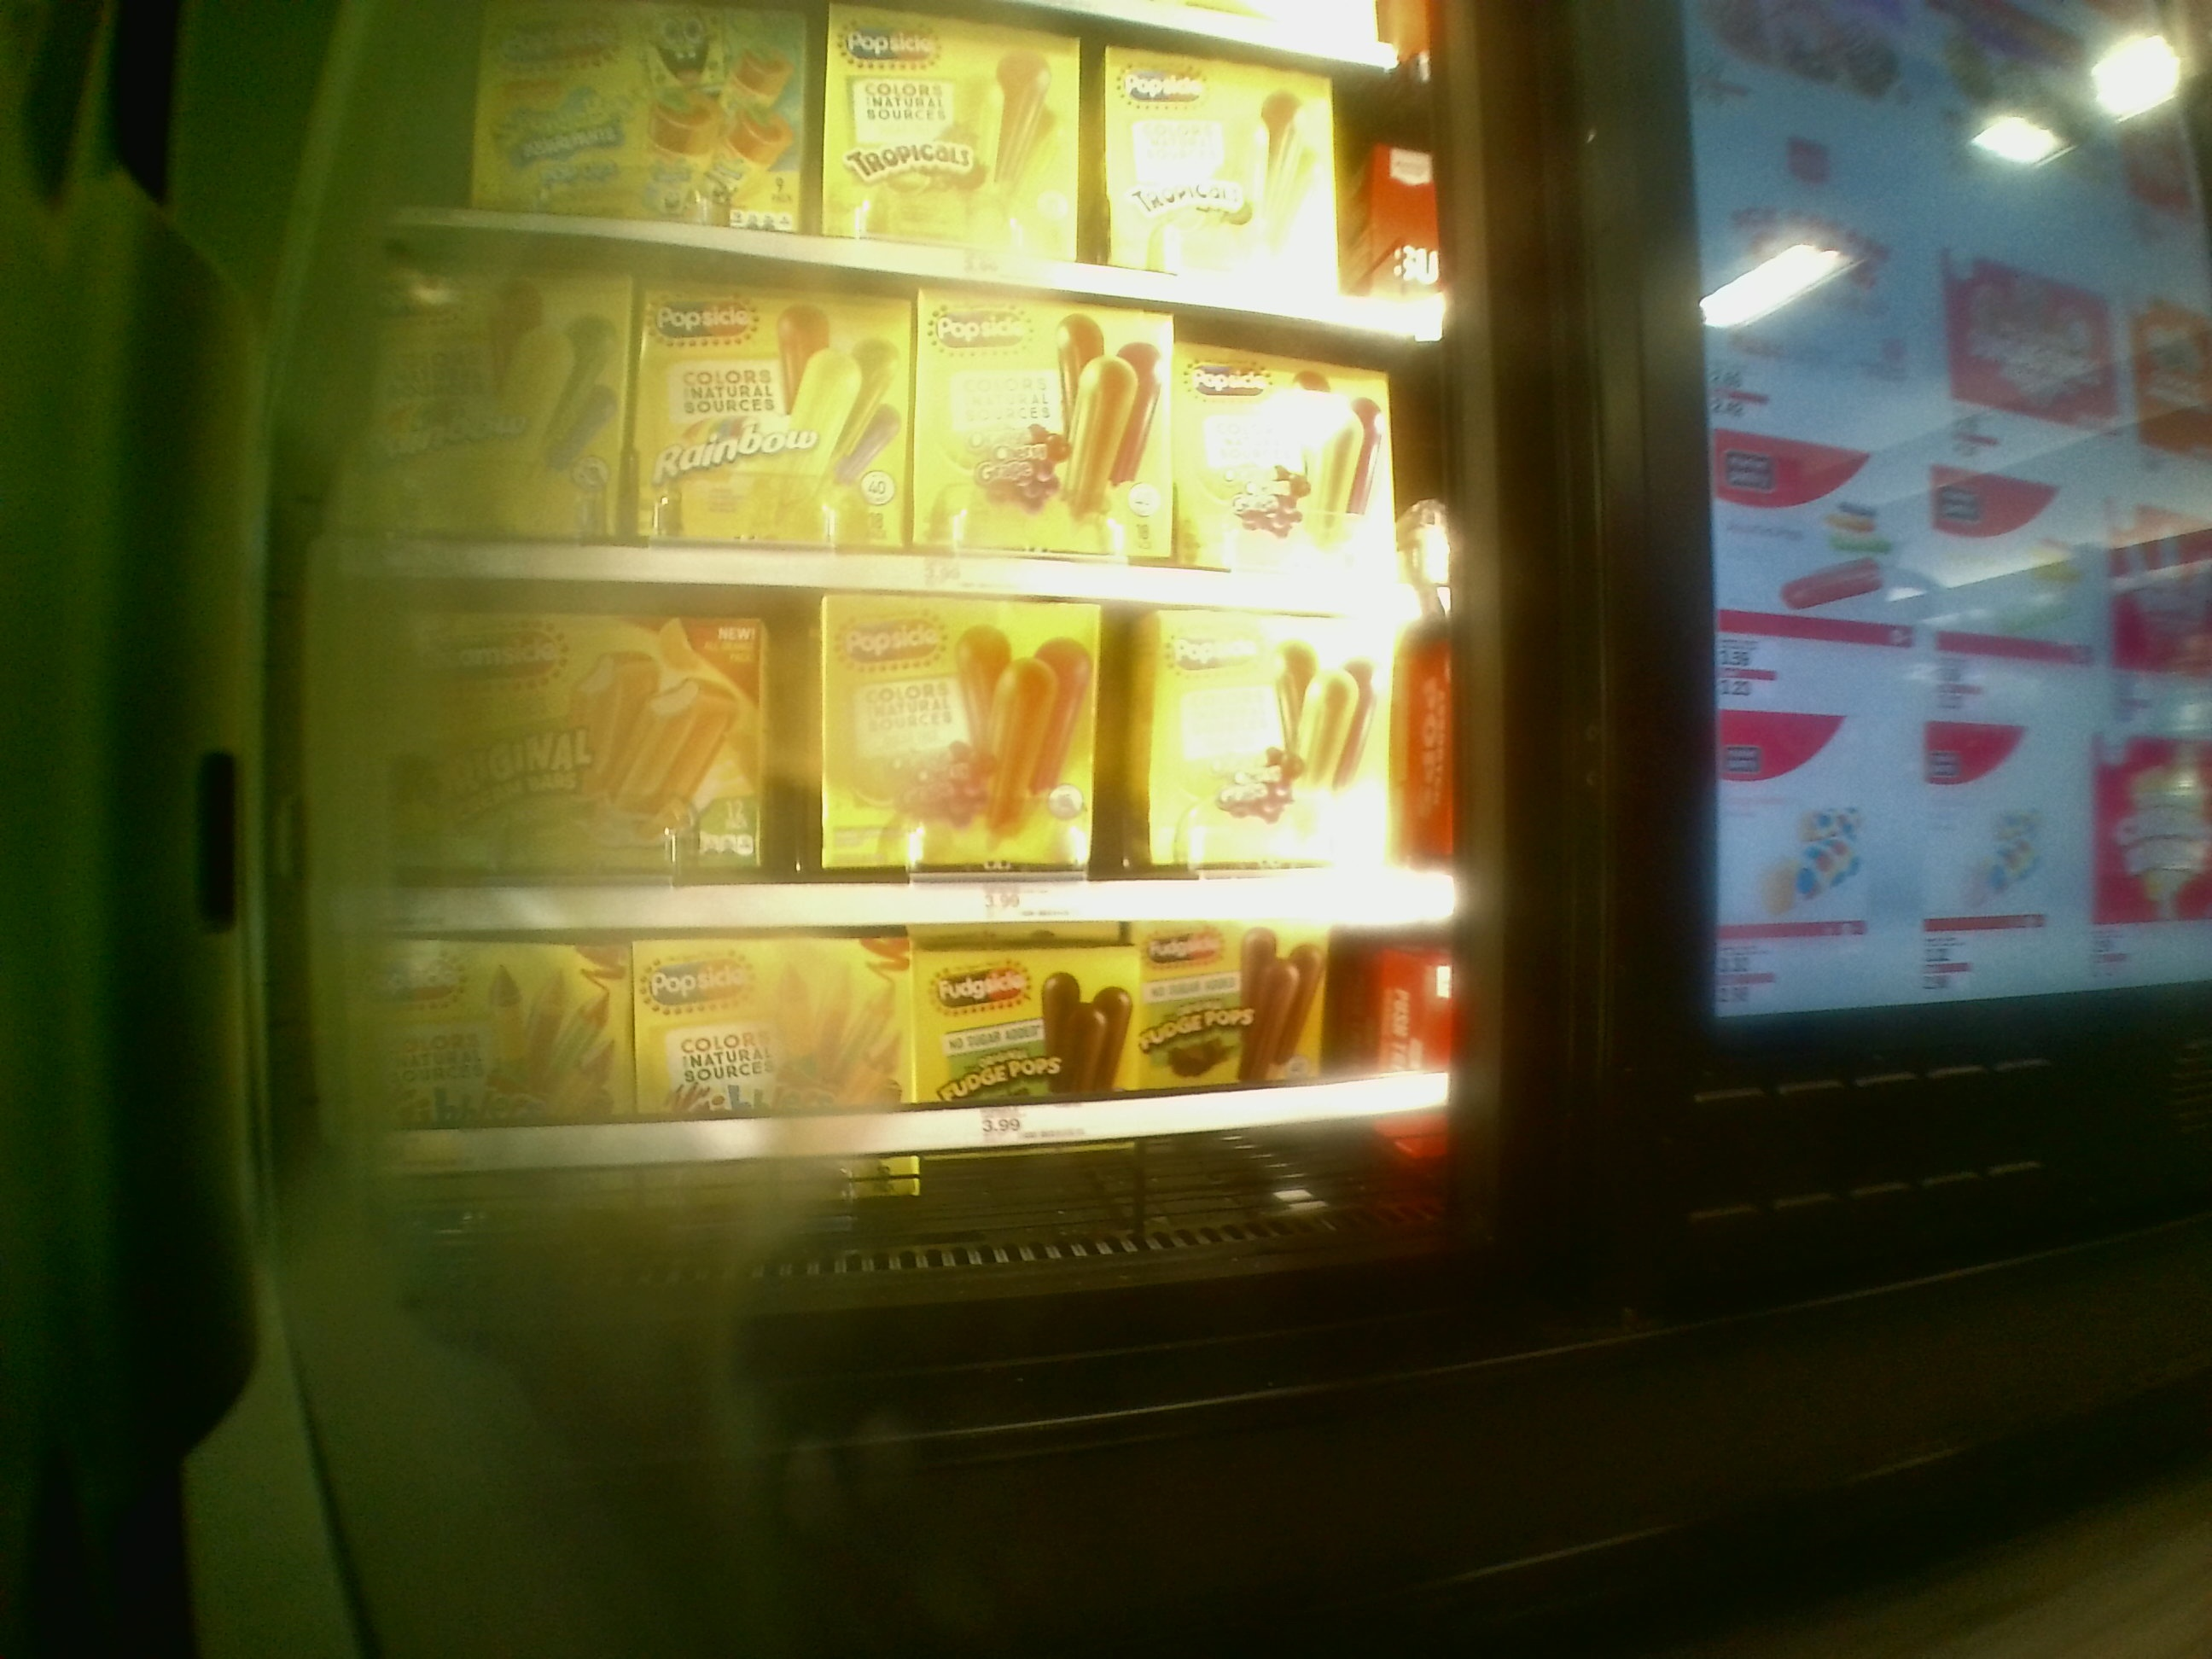frozen-food-shelf: (320, 598, 1461, 932), (326, 326, 1447, 608), (331, 934, 1470, 1188)
